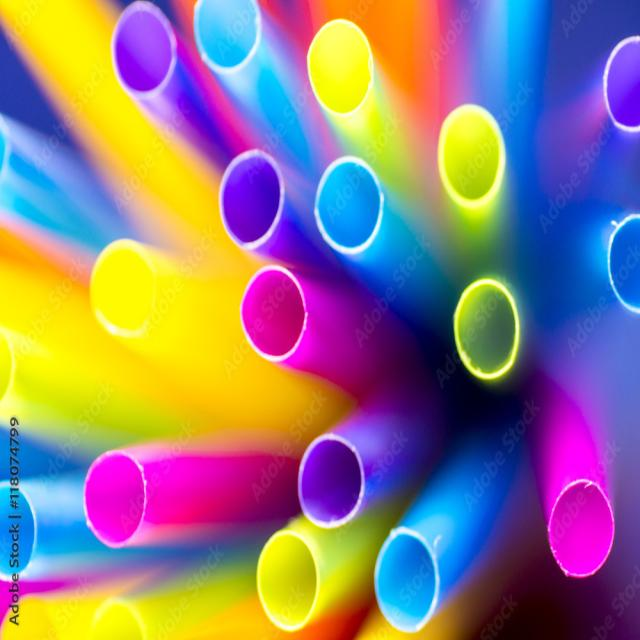plastic: (67, 406, 271, 557)
